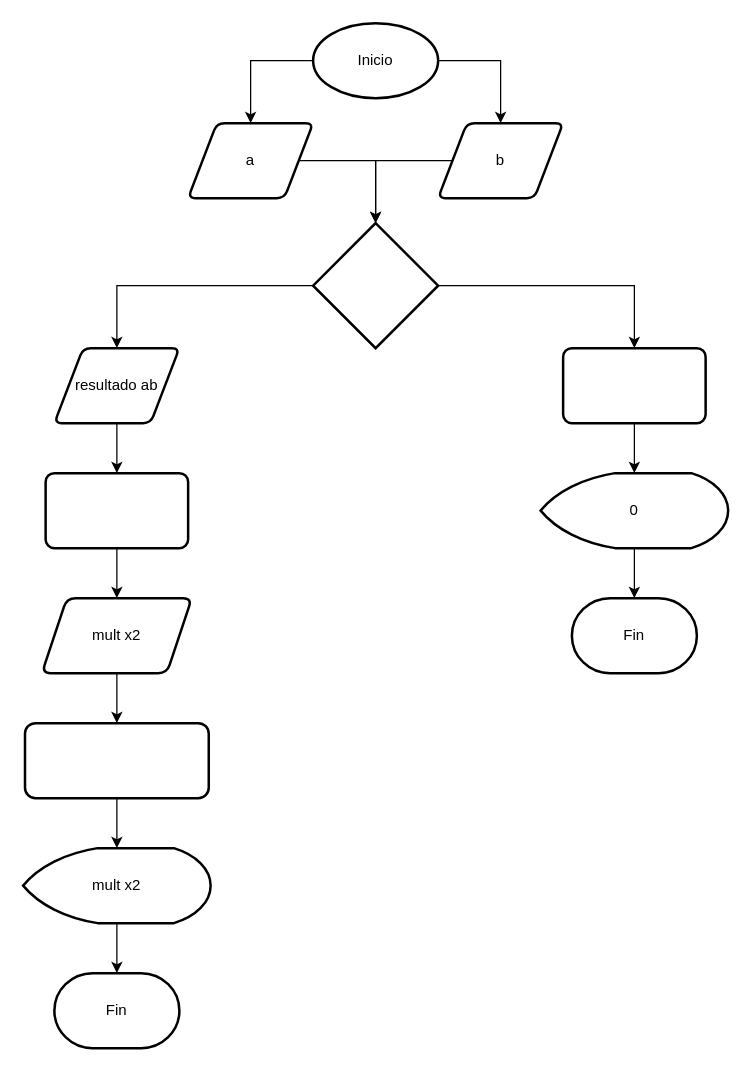
The diagram is 750 pixels wide and 1070 high, and some of its shapes have lost their labels. Here are the shapes that lost their labels. From the top down, the centre of each, then its label:
At [375,285]: "a > 0 y b > 0".
At [633,385]: "Devolver 0".
At [116,510]: "resultado ab = a + b".
At [116,760]: "mult x2 = resultado ab * 2".
